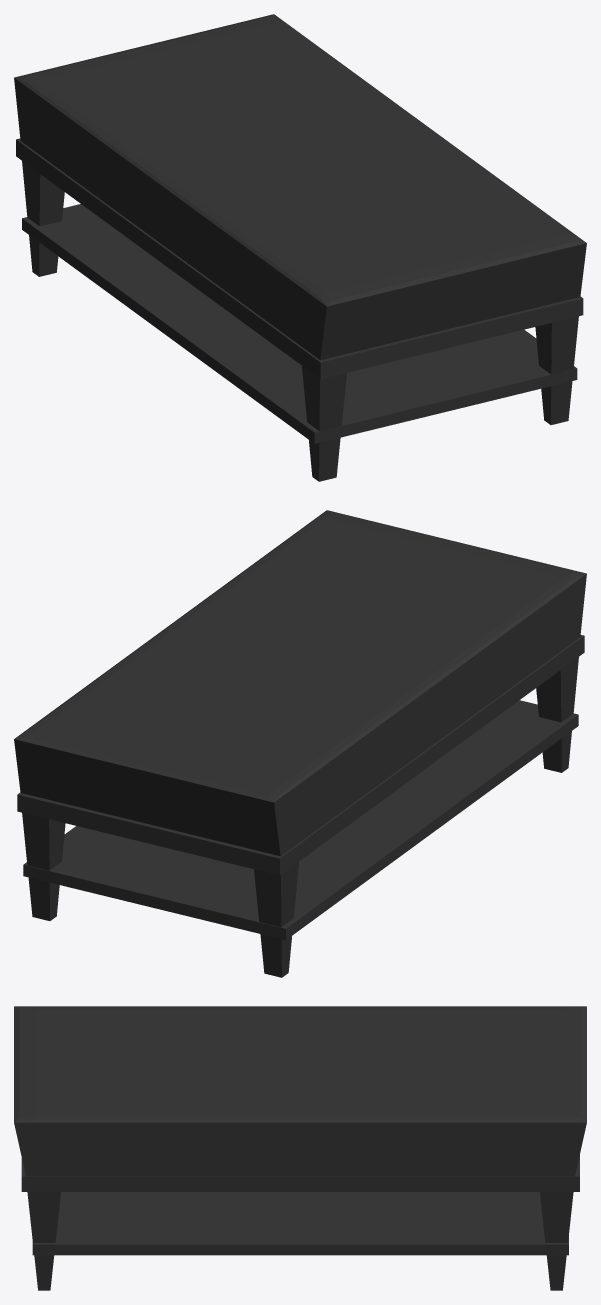
File: OrtaSepha.fbx
3 views of the same model, one above another, from view 1: azimuth 30°, elevation 25°; view 2: azimuth 150°, elevation 25°; view 3: azimuth 270°, elevation 25° (orthographic). The views are drawn at different scales.
Visible parts, largest first — view 1: Cube.023; view 2: Cube.023; view 3: Cube.023.
Boxes of the visible parts, x1=… form: Cube.023: x1=14, y1=14, x2=586, y2=481; Cube.023: x1=14, y1=510, x2=586, y2=977; Cube.023: x1=14, y1=1006, x2=586, y2=1290.
Size of the model in its own units: 186 by 128 by 384.
